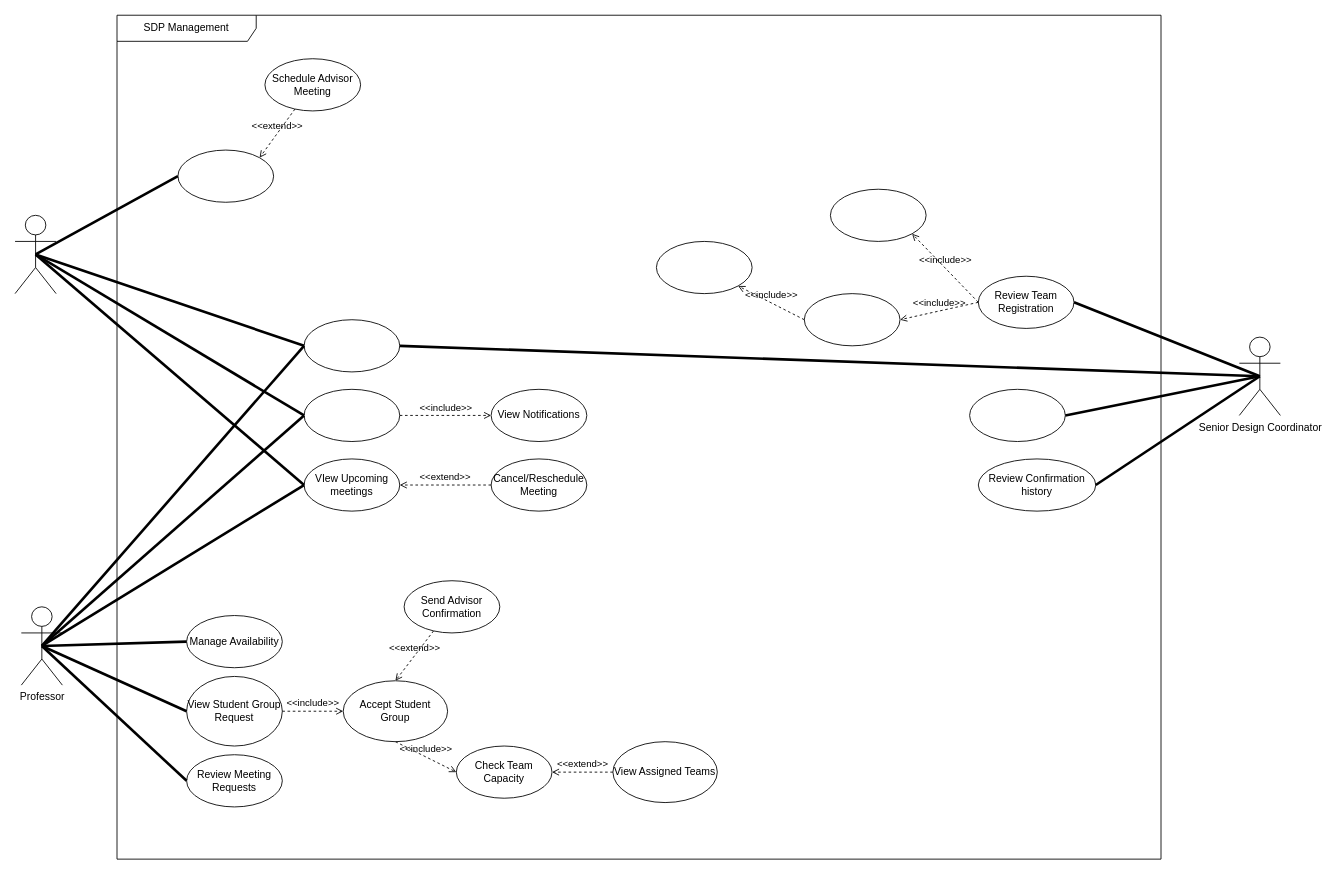
Some shapes in this 1336 by 874 pixel diagram are drawn without their labels. Here are the shapes that lost their labels. From the top down, the centre of each, then its label:
the point at 225,175: Search For Advisor
the point at 878,214: Confirm Team Assignment
the point at 35,254: Student
the point at 704,267: Request Team Correction
the point at 851,319: Reject Team Assignment
the point at 351,345: View Profile
the point at 351,415: Send Message
the point at 1017,415: Monitor Advisor Assignments
